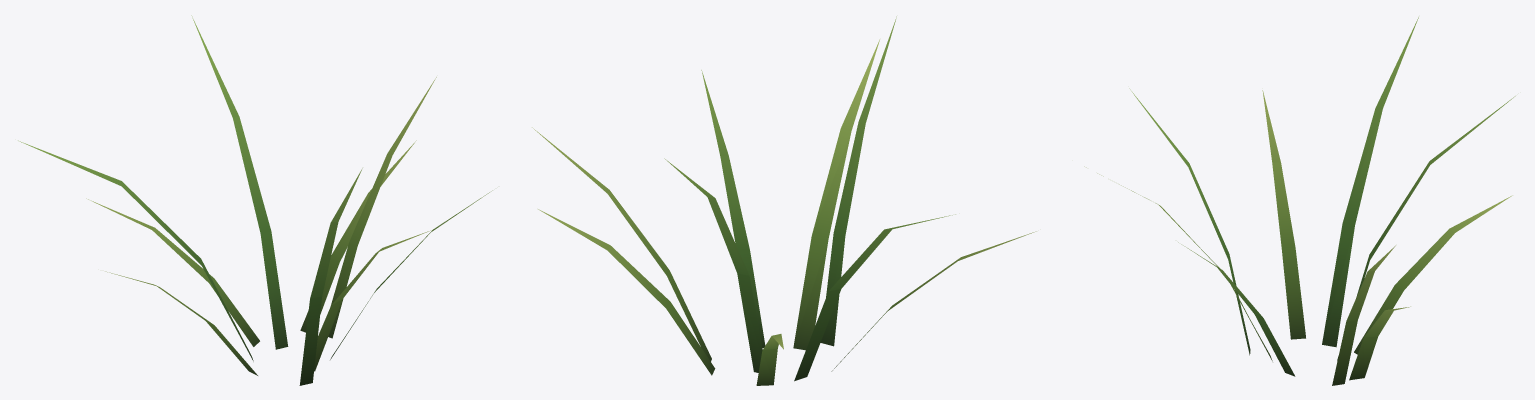
File: grass_meadow_wide_01.glb
3 views of the same model, side by side, from view 1: azimuth 30°, elevation 25°; view 2: azimuth 150°, elevation 25°; view 3: azimuth 270°, elevation 25° (orthographic). The views are drawn at different scales.
Visible parts, largest first — view 1: grass_meadow_wide_01_mesh; view 2: grass_meadow_wide_01_mesh; view 3: grass_meadow_wide_01_mesh.
Boxes of the visible parts, left/top/right/bottom form: grass_meadow_wide_01_mesh: left=18, top=15, right=492, bottom=385; grass_meadow_wide_01_mesh: left=532, top=16, right=1036, bottom=385; grass_meadow_wide_01_mesh: left=1084, top=17, right=1515, bottom=385.
Bounding box in the file's own units: 0.566 × 0.3516 × 0.5313.
